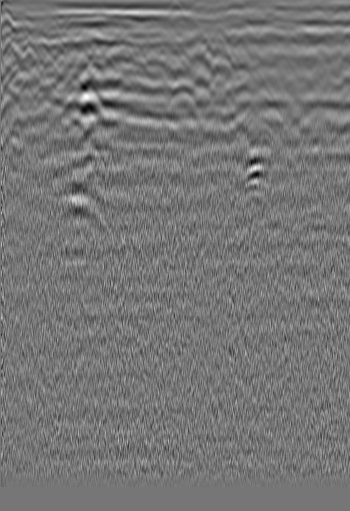가스: (239, 146, 276, 187)
상수: (0, 13, 20, 33)
오수: (309, 7, 329, 27)
우수: (142, 13, 162, 33)
